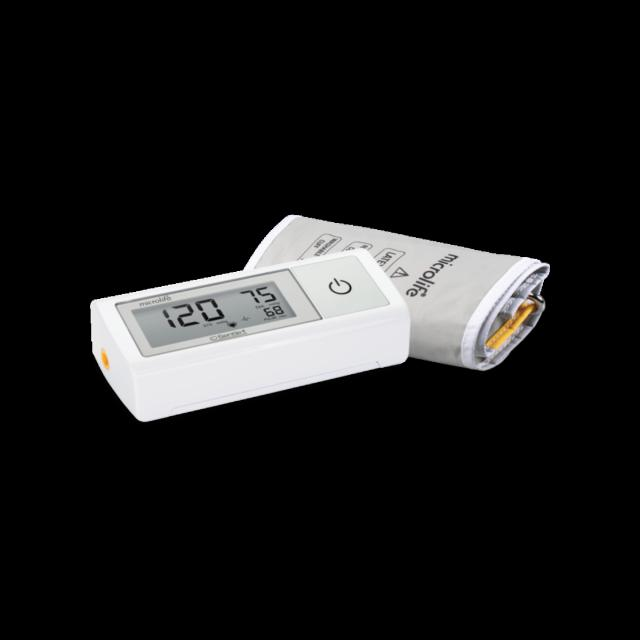dia: (235, 276, 280, 310)
pul: (256, 298, 289, 322)
ssd: (133, 274, 299, 352)
sys: (156, 288, 230, 335)
